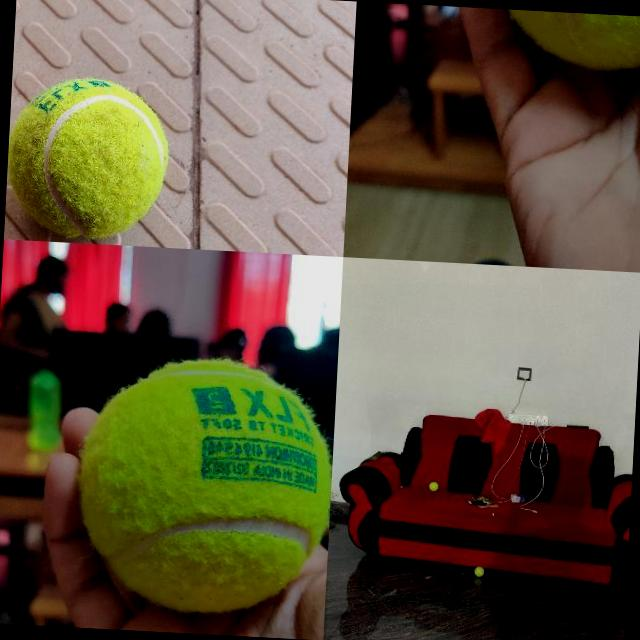Tennis Ball: (74, 354, 338, 618), (5, 74, 172, 242), (474, 565, 486, 576), (429, 482, 438, 491)
